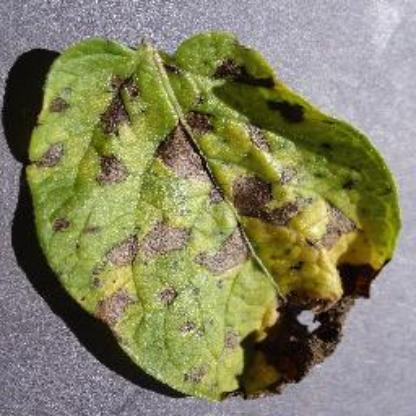Early-Blight: (25, 32, 401, 398)
